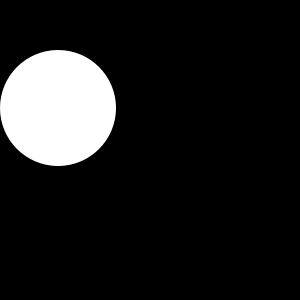rectangle: (0, 50, 116, 166)
